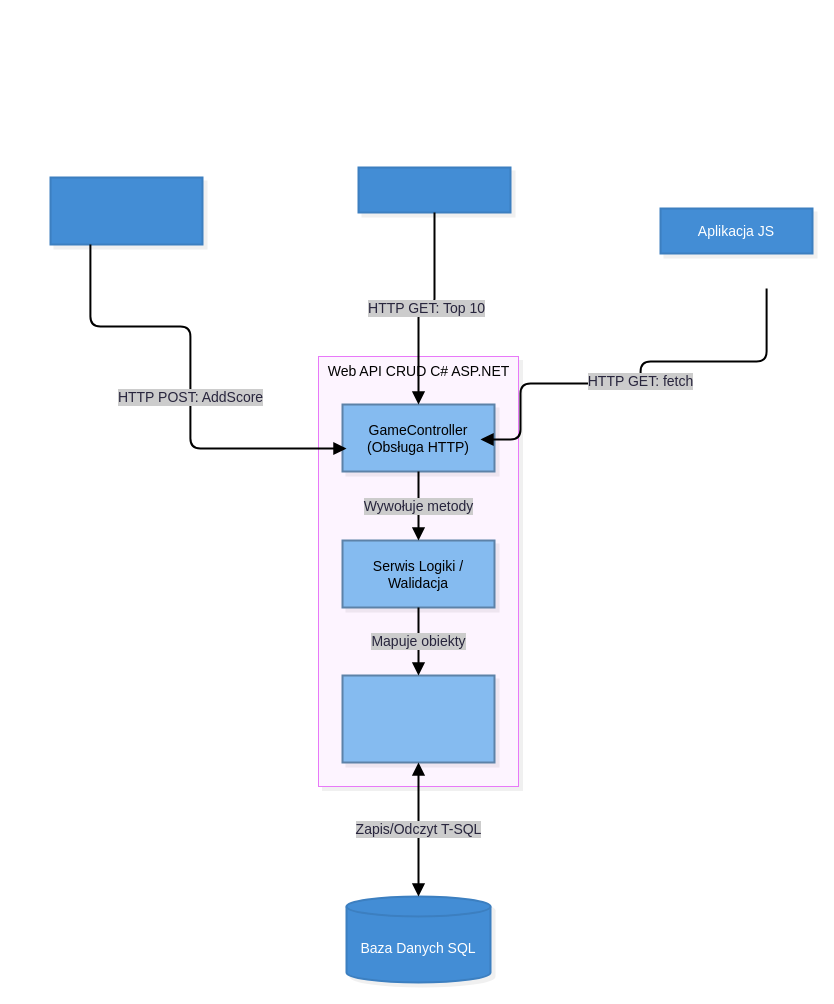
Some shapes in this 834 by 1004 pixel diagram are drawn without their labels. The centre of each missing label's shape, as x and y in pixels:
Arduino 1 - Konwerter: the point at 128,212
Arduino 2 + Display: the point at 436,191
Entity Framework (Dostęp do danych): the point at 420,720
